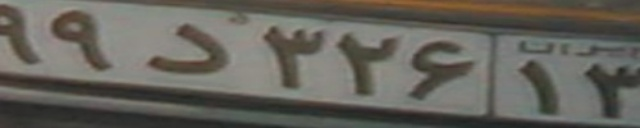1: (518, 59, 560, 114)
2: (335, 33, 395, 96)
3: (261, 24, 326, 90), (583, 60, 638, 118)
6: (406, 38, 477, 101)
8: (48, 8, 114, 70), (0, 2, 40, 65)
dal: (142, 22, 232, 74)
